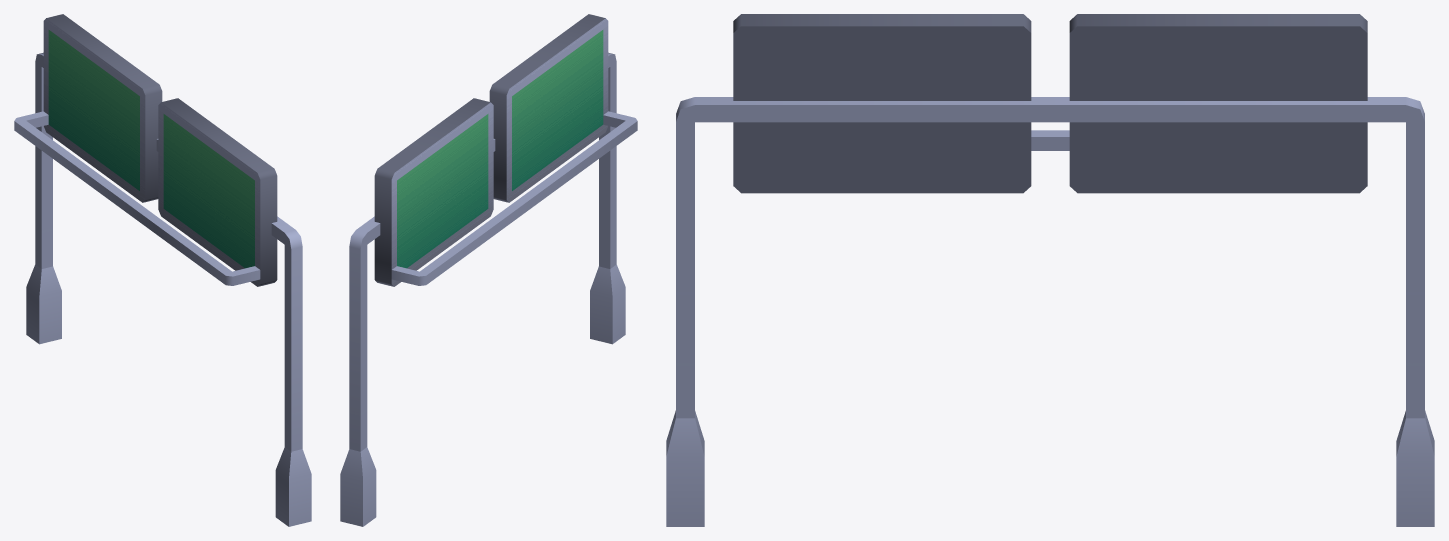
File: sign-highway.gltf
The picture shows the model from 3 angles, left to right: view 1: azimuth 30°, elevation 25°; view 2: azimuth 150°, elevation 25°; view 3: azimuth 270°, elevation 25°; orthographic projection. The views are drawn at different scales.
Parts seen in each view (by area): view 1: sign-highway; view 2: sign-highway; view 3: sign-highway.
Boxes of the visible parts, box(x1,y1,x2,y2) form: sign-highway: box(14, 14, 311, 526); sign-highway: box(340, 14, 637, 526); sign-highway: box(666, 14, 1434, 526).
Bounding box in the file's own units: 0.1324 × 0.7074 × 1.
Materials: 1 (1 with a texture image).
